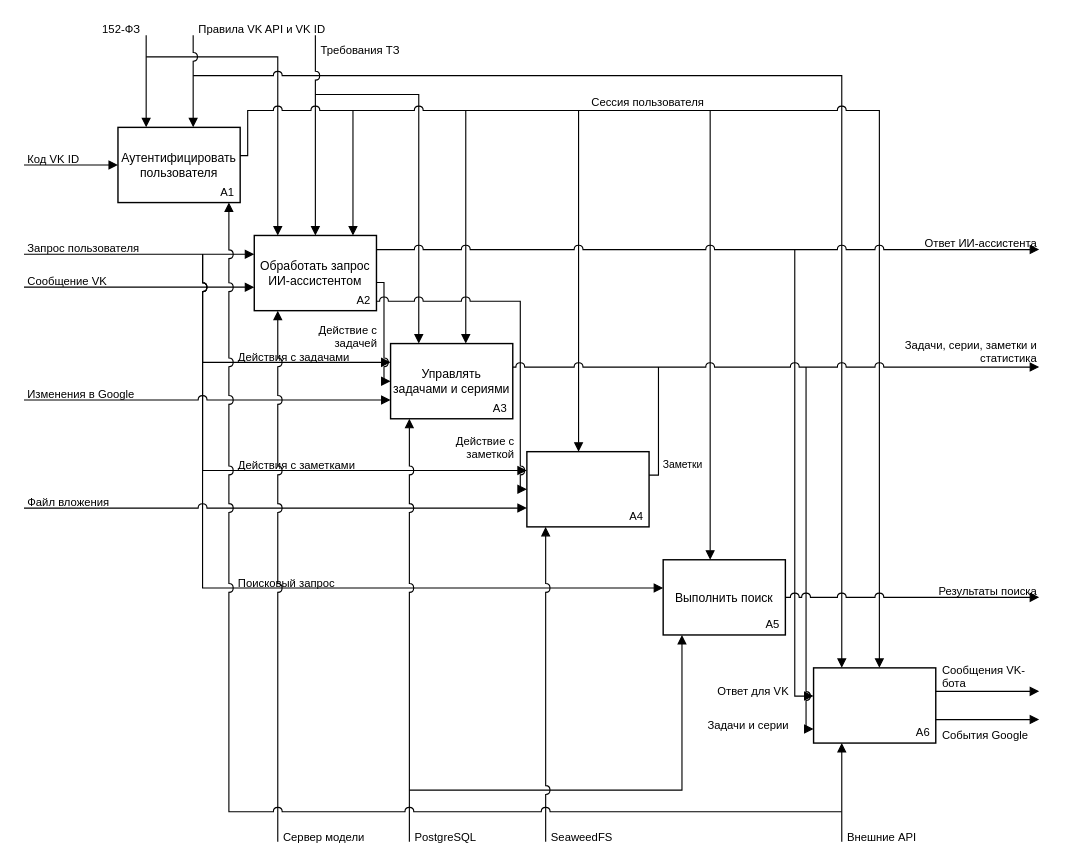
The diagram is 1065 pixels wide and 867 high, and some of its shapes have lost their labels. The box of each missing label's shape, as (x1, y1, x2, y2) in pixels:
Вести заметки и вложения: (526, 451, 649, 527)
Обмениваться данными с внешними сервисами: (812, 667, 936, 743)
